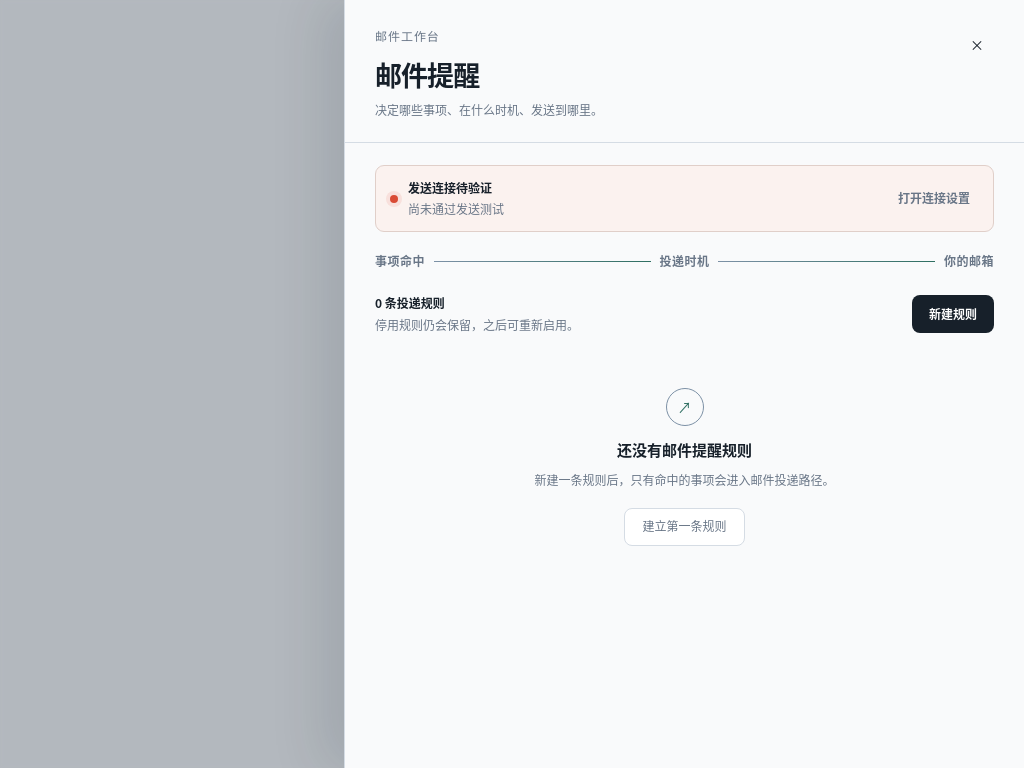
it: EmailRulesPanel › 在发送连接未验证时阻止启用规则，并保留可停用保存的路径
Expected: the text "还没有邮件提醒规则" is shown, [617,438,752,462]
Click the button "建立第一条规则" at (684, 526), box [624,508,744,546]
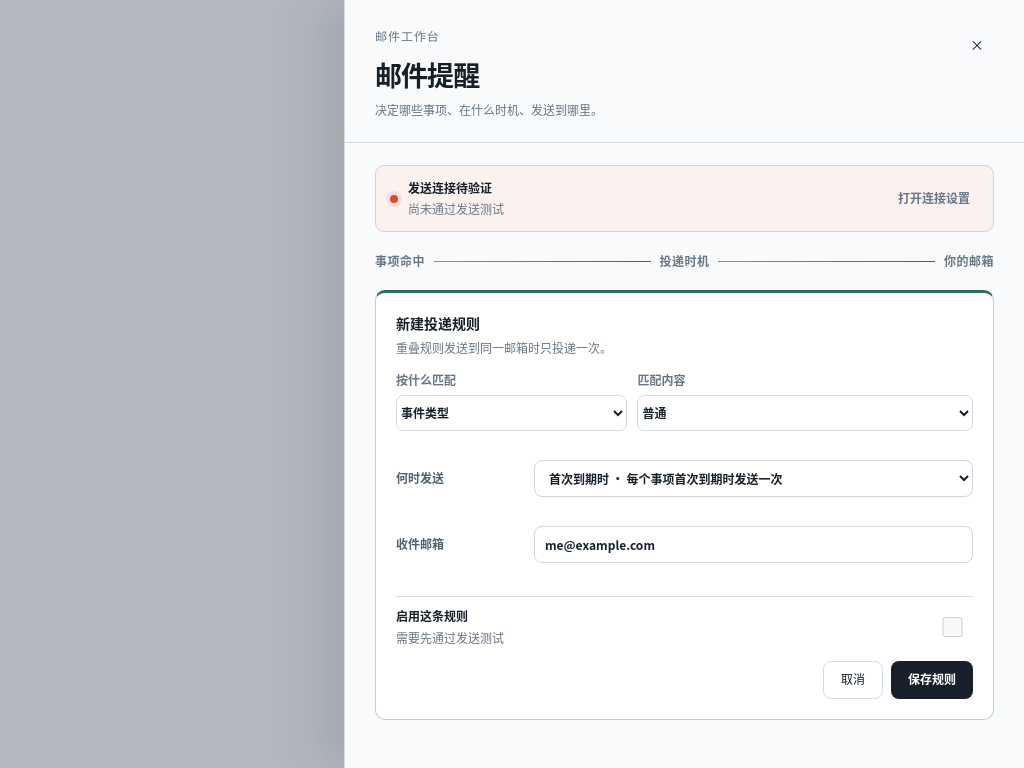
Now the checkbox labelled "启用这条规则 需要先通过发送测试" is disabled, box [935,617,970,637]
Now the text "需要先通过发送测试" is shown, box [396,629,504,646]
